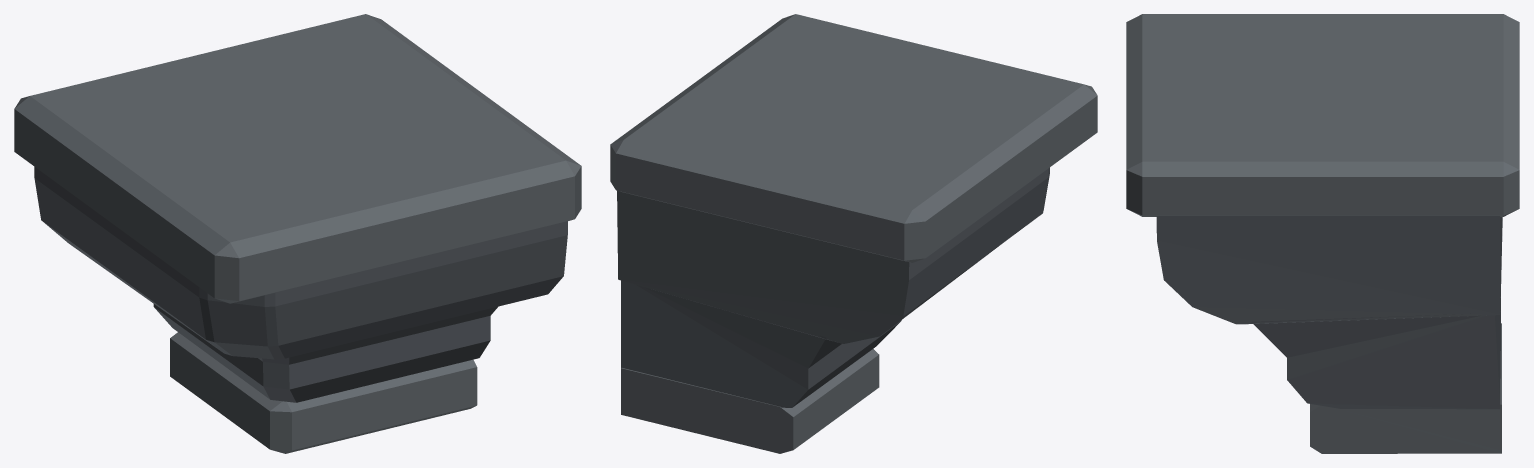
File: MCastle_MasonryFixtures_10.FBX
The picture shows the model from 3 angles, left to right: view 1: azimuth 30°, elevation 25°; view 2: azimuth 150°, elevation 25°; view 3: azimuth 270°, elevation 25°; orthographic projection. The views are drawn at different scales.
Parts seen in each view (by area): view 1: MCastle_MasonryFixtures_10_LOD0; view 2: MCastle_MasonryFixtures_10_LOD0; view 3: MCastle_MasonryFixtures_10_LOD0.
Part boxes in pixels (x1=…): MCastle_MasonryFixtures_10_LOD0: x1=14, y1=14, x2=581, y2=453; MCastle_MasonryFixtures_10_LOD0: x1=610, y1=14, x2=1097, y2=453; MCastle_MasonryFixtures_10_LOD0: x1=1126, y1=14, x2=1519, y2=453.
Size of the model in its own units: 2.21 by 1.86 by 2.28.
